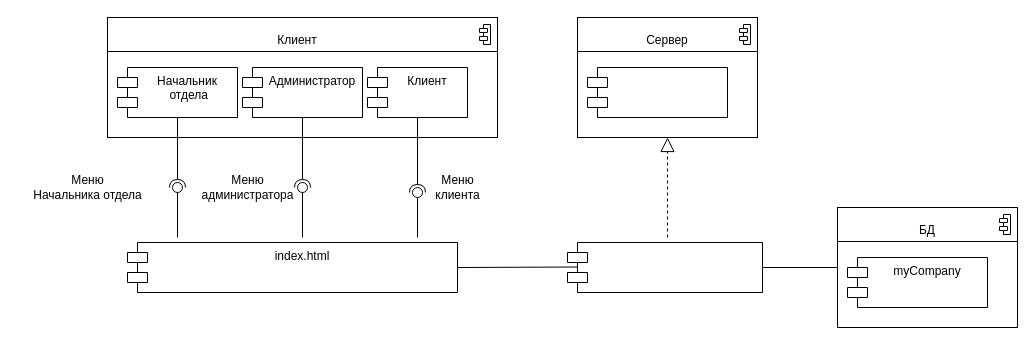
Some shapes in this 1035 by 345 pixel diagram are drawn without their labels. The shapes that lost their labels are listed below. From the top down, each one's box as (x1, y1, x2, y2) in pixels, then its label:
(586, 66, 728, 118): .env
(566, 242, 762, 292): index.js
